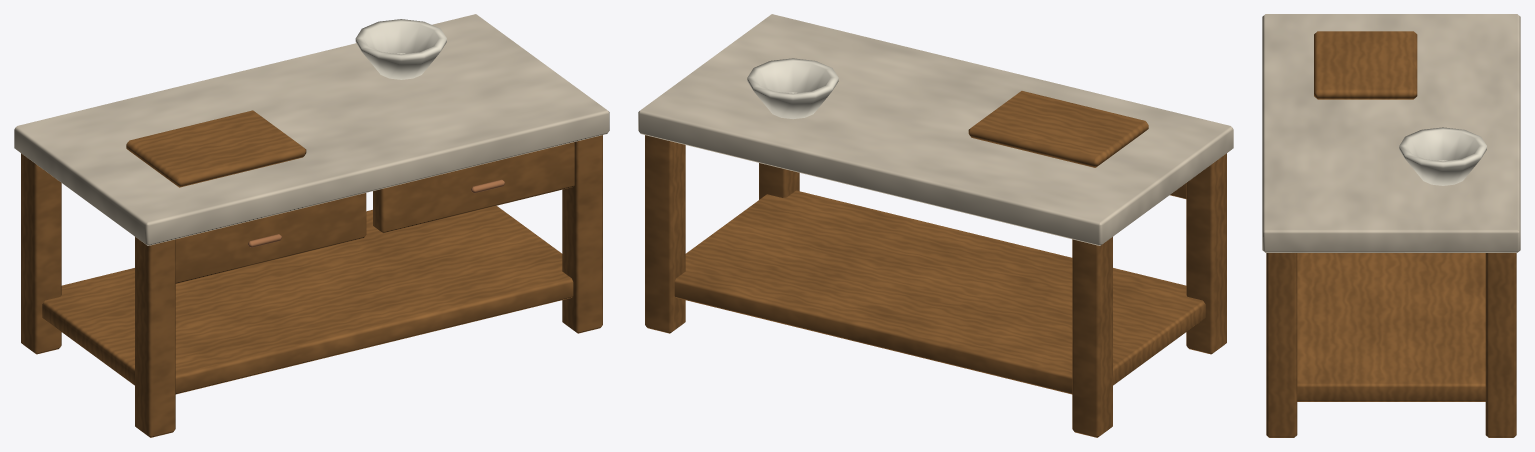
The model's file is Furn_KitchenCounterDeep.fbx.
3 renders of one model, left to right at view 1: azimuth 30°, elevation 25°; view 2: azimuth 150°, elevation 25°; view 3: azimuth 270°, elevation 25°, orthographic. The views are drawn at different scales.
Visible parts, largest first — view 1: Furn_KitchenCounterDeep_Mesh; view 2: Furn_KitchenCounterDeep_Mesh; view 3: Furn_KitchenCounterDeep_Mesh.
Boxes of the visible parts, bbox=[...] form: Furn_KitchenCounterDeep_Mesh: bbox=[14, 14, 609, 437]; Furn_KitchenCounterDeep_Mesh: bbox=[638, 14, 1233, 437]; Furn_KitchenCounterDeep_Mesh: bbox=[1262, 14, 1520, 437].
Bounding box in the file's own units: 2 × 1.03 × 1.
